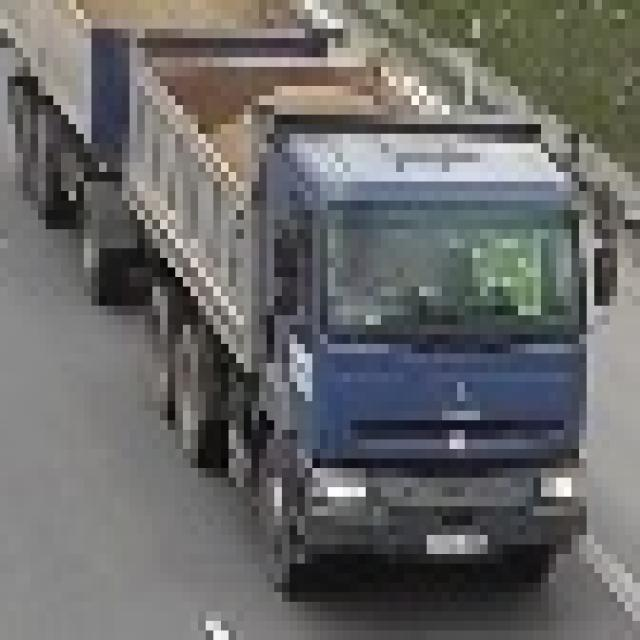truck: (0, 0, 610, 583)
